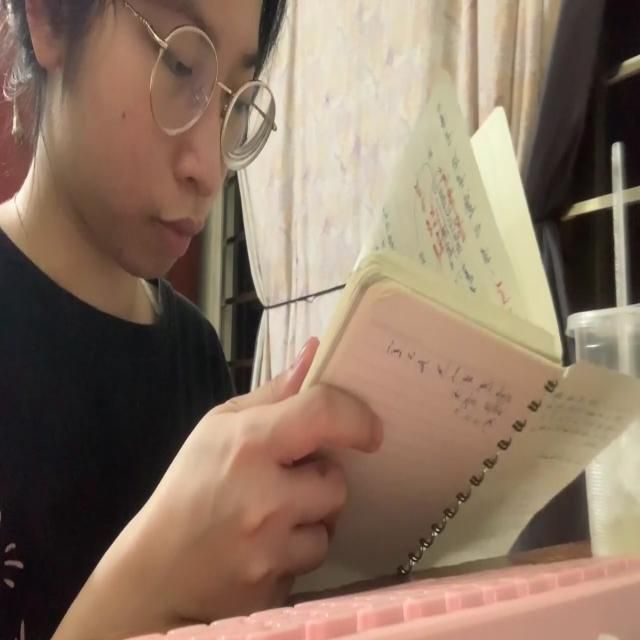book: (294, 61, 638, 582)
student: (0, 0, 385, 636)
